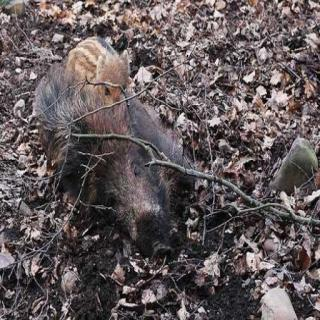Pig: (40, 17, 228, 252)
